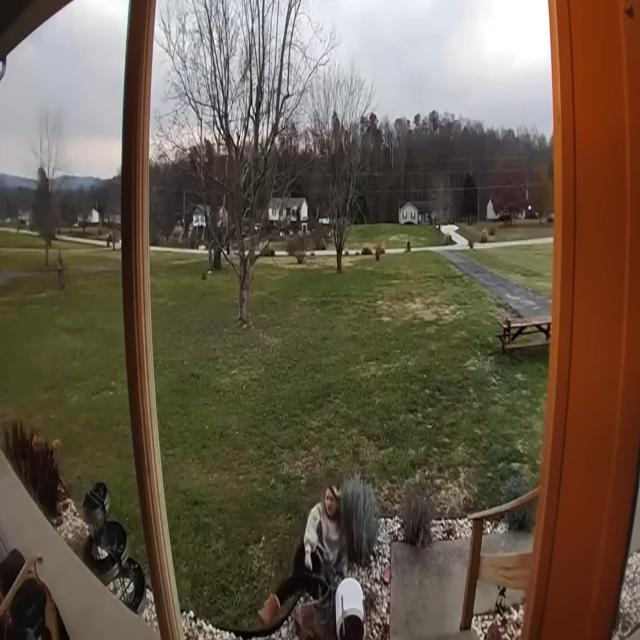fallen: (259, 486, 348, 624)
